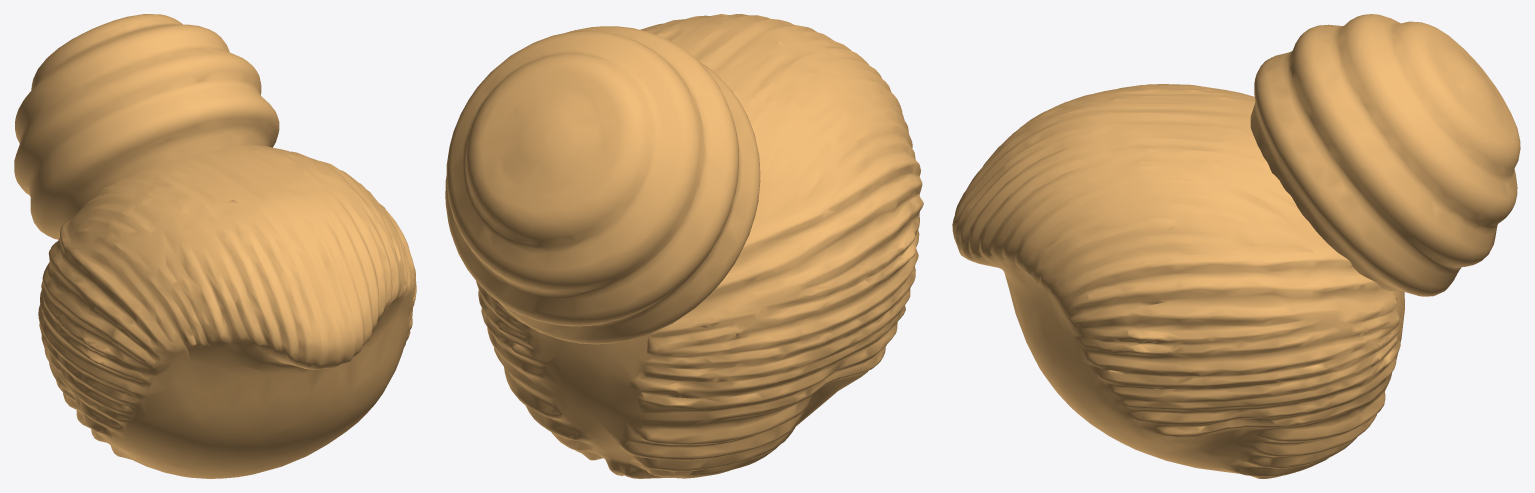
File: hair-003-cee30aff.glb
3 views of the same model, side by side, from view 1: azimuth 30°, elevation 25°; view 2: azimuth 150°, elevation 25°; view 3: azimuth 270°, elevation 25° (orthographic). The views are drawn at different scales.
Visible parts, largest first — view 1: Geo_Female_White_Hair.011; view 2: Geo_Female_White_Hair.011; view 3: Geo_Female_White_Hair.011.
Part boxes in pixels (x1,y1,x2,y2): Geo_Female_White_Hair.011: (14, 14, 416, 478); Geo_Female_White_Hair.011: (445, 14, 923, 478); Geo_Female_White_Hair.011: (952, 14, 1520, 478).
Size of the model in its own units: 1.69 by 2 by 2.4.
